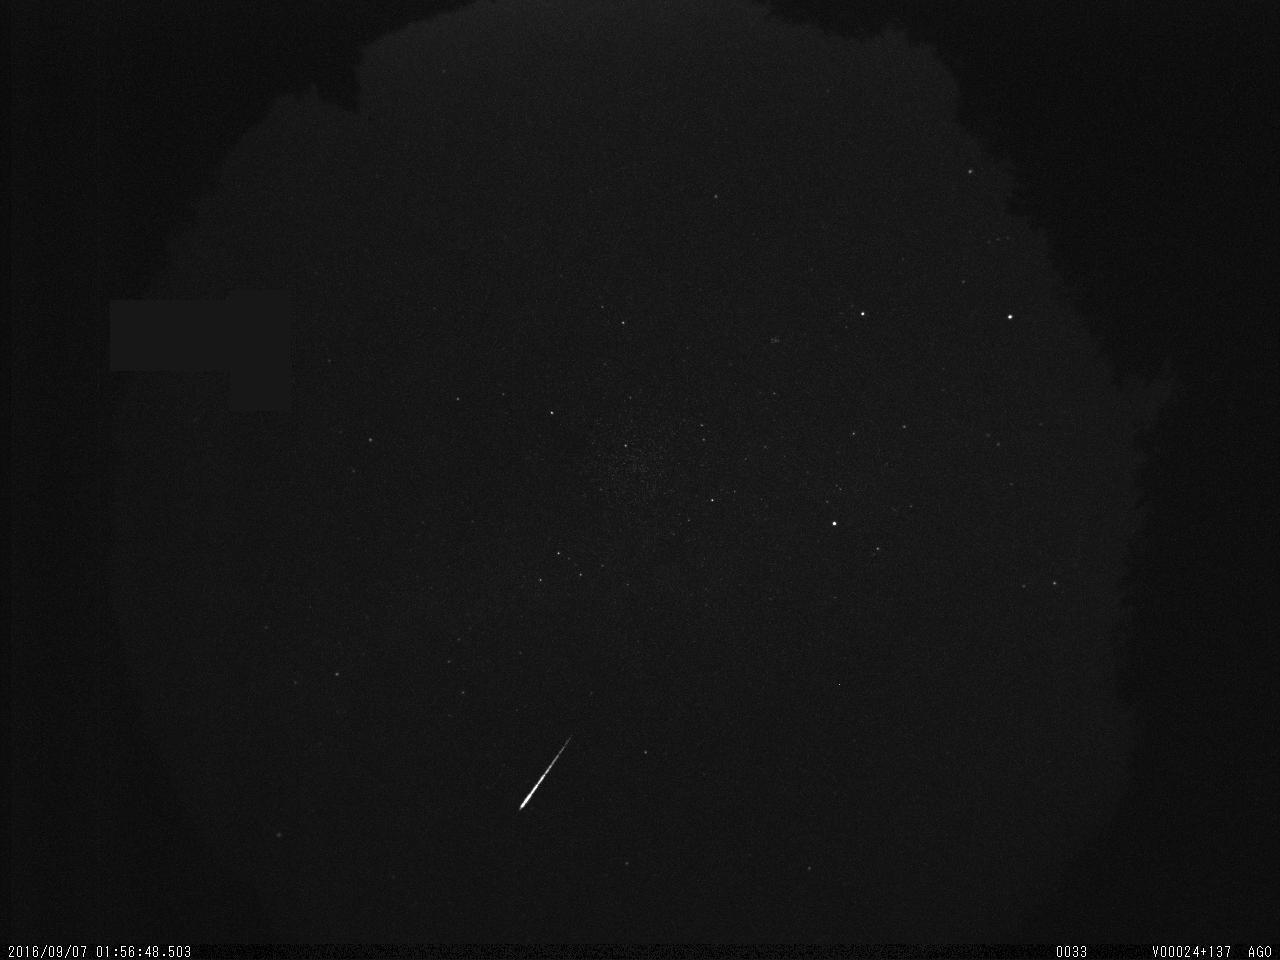Meteor: (516, 734, 572, 812)
